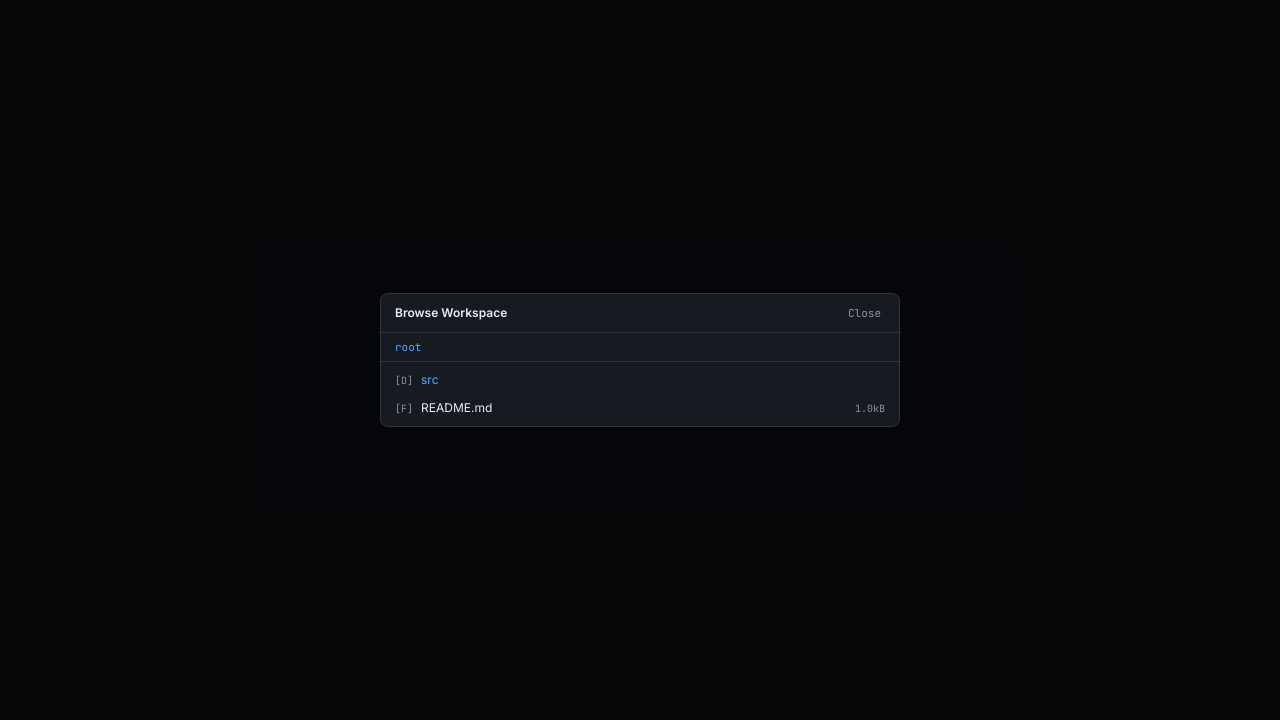
WorkspaceFilePicker › renders breadcrumb buttons and navigates back to root
The image size is (1280, 720).
Navigate into src
Click the text "src".
click(430, 380)  # box [421,372,438,387]
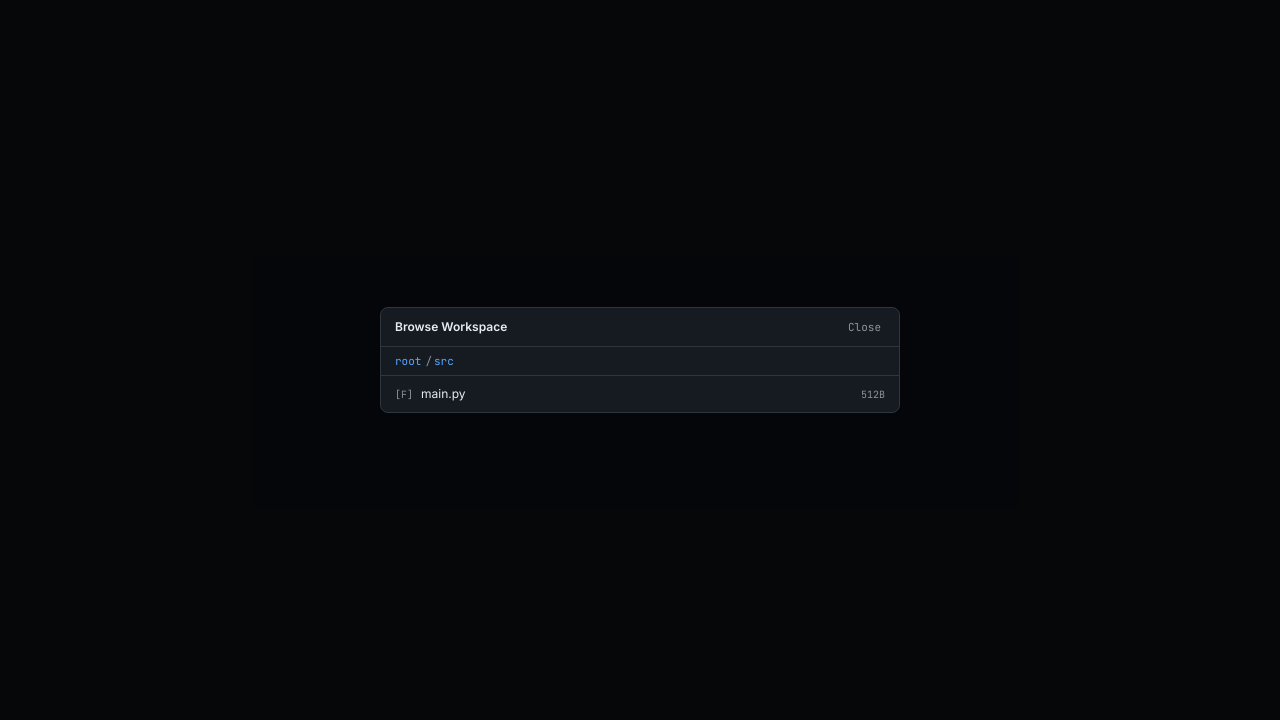
Check: the text "main.py" is shown, box [421,386,466,401]
Click the "root" breadcrumb to go back
Click the button "root".
click(408, 361)  # box [395,354,421,368]
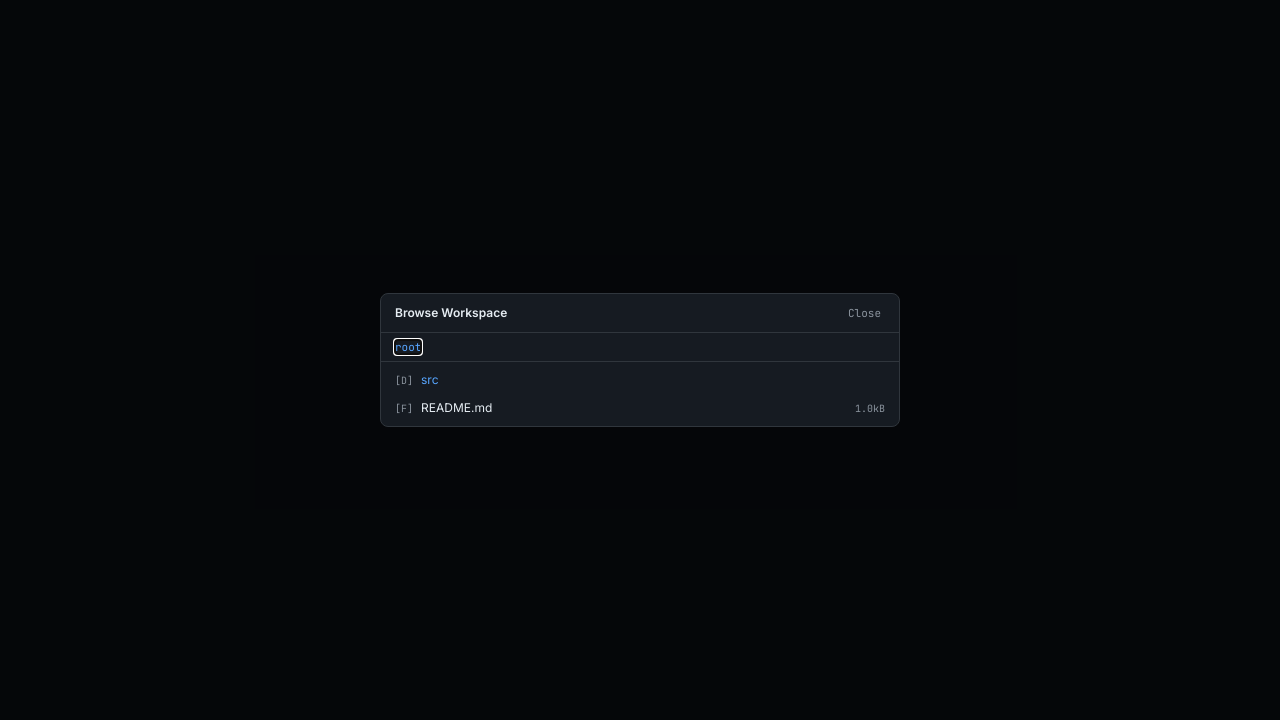
Check: the text "README.md" is shown, box [421,400,492,415]
